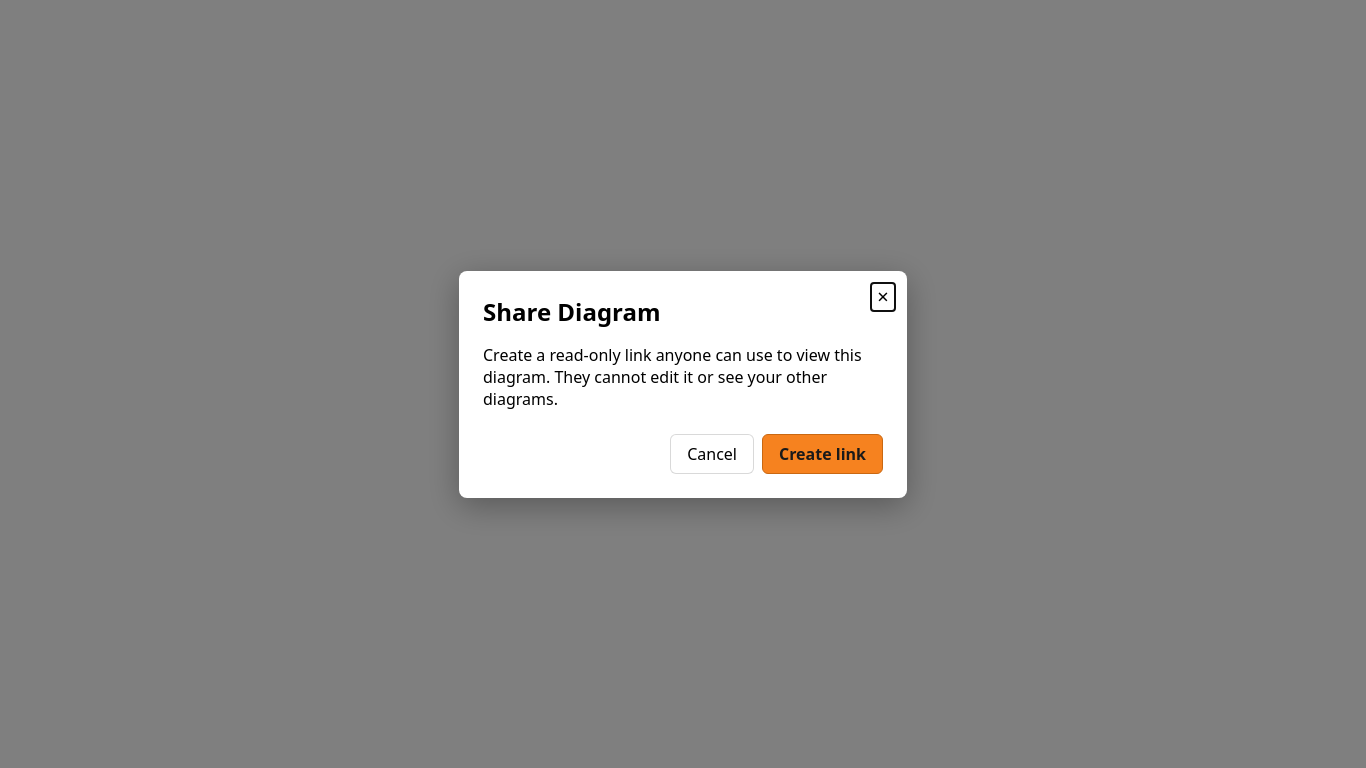
Scenario: ShareModal › revokes a just-created link directly from the revealed state
The width and height of the screenshot is (1366, 768).
Click the button "Create link": (822, 454) [762, 434, 883, 474]
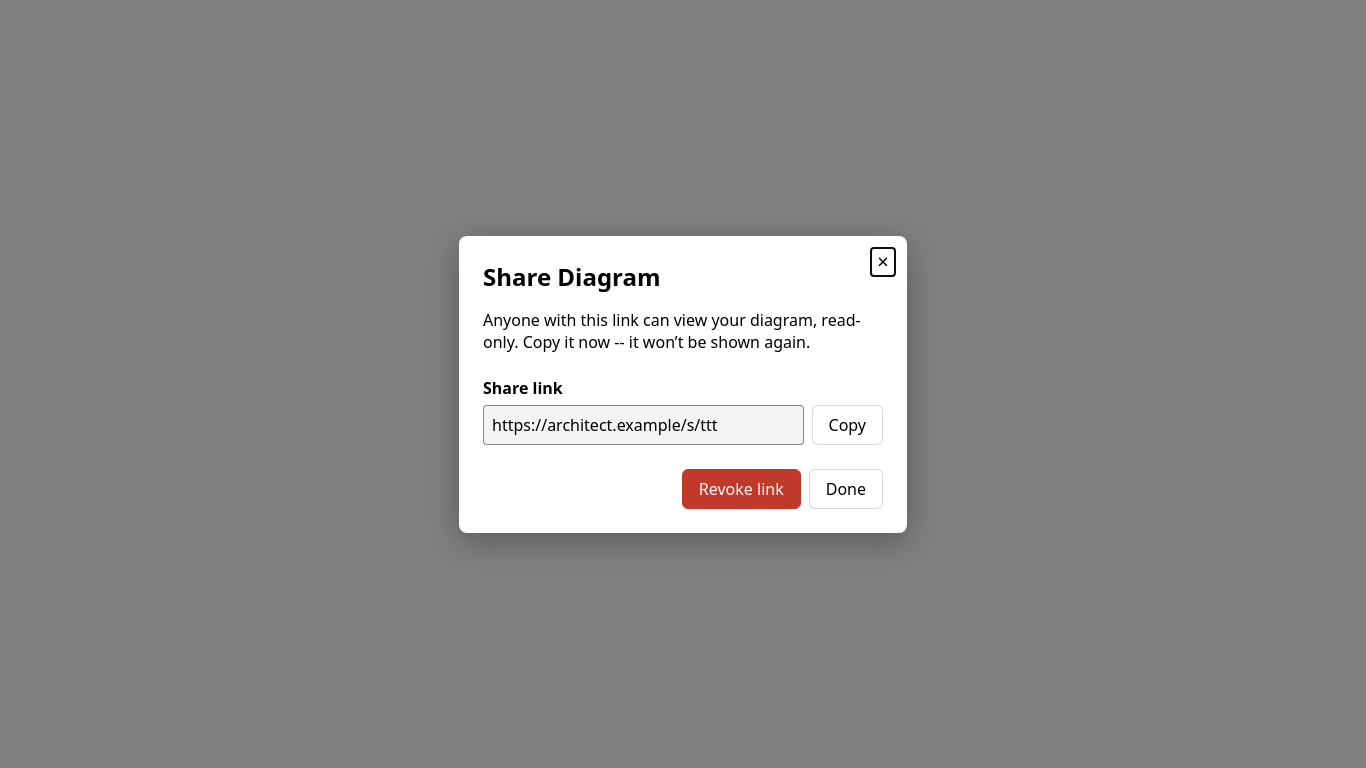
Check: the field labelled "Share link" is shown, box [483, 404, 804, 444]
Click the button "Revoke link": (741, 488) [682, 468, 801, 508]
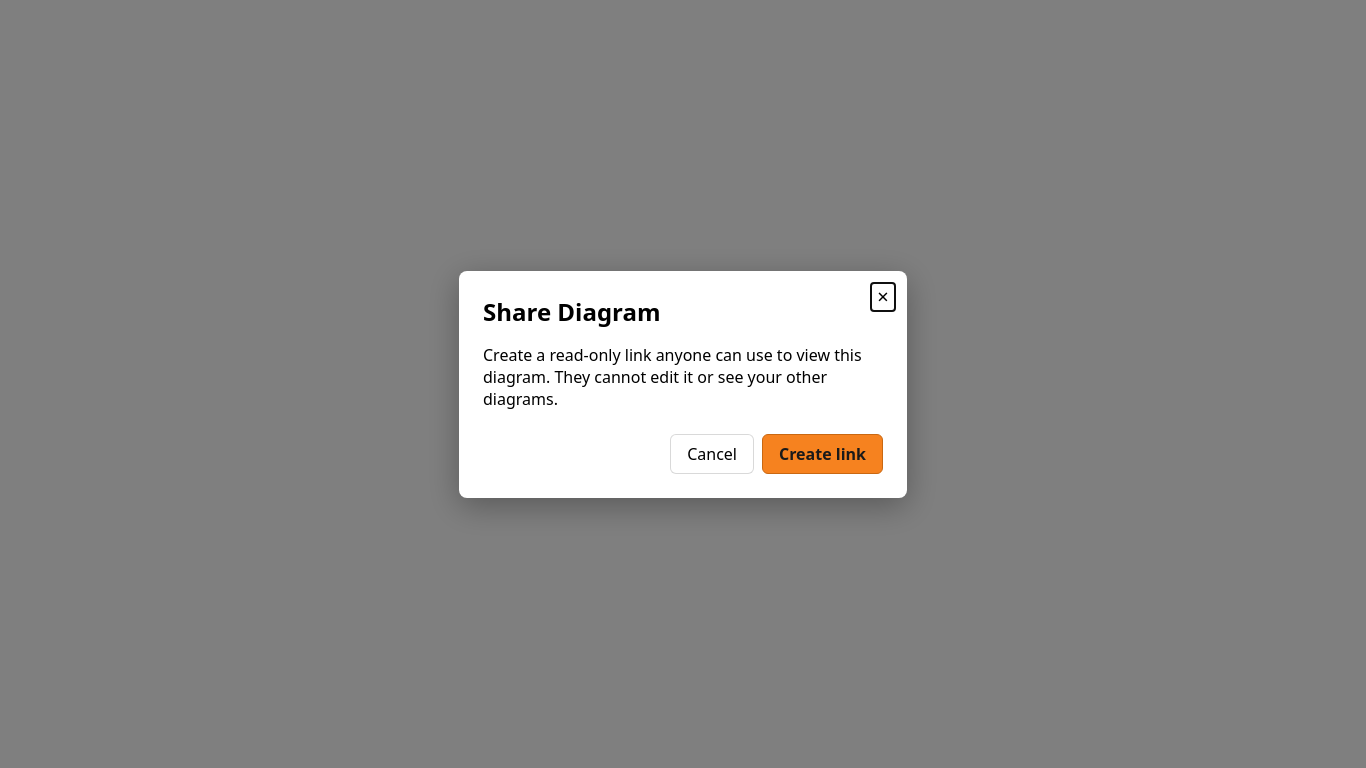
Check: the button "Create link" is shown, box [762, 434, 883, 474]
